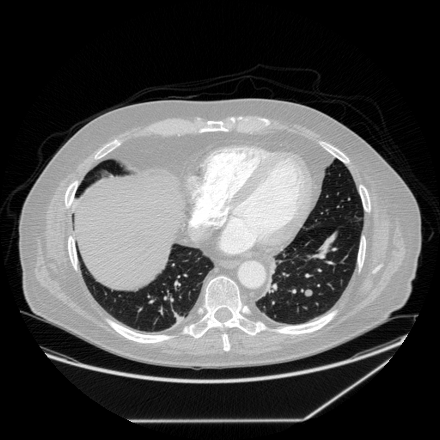nodule: (304, 288, 312, 296)
